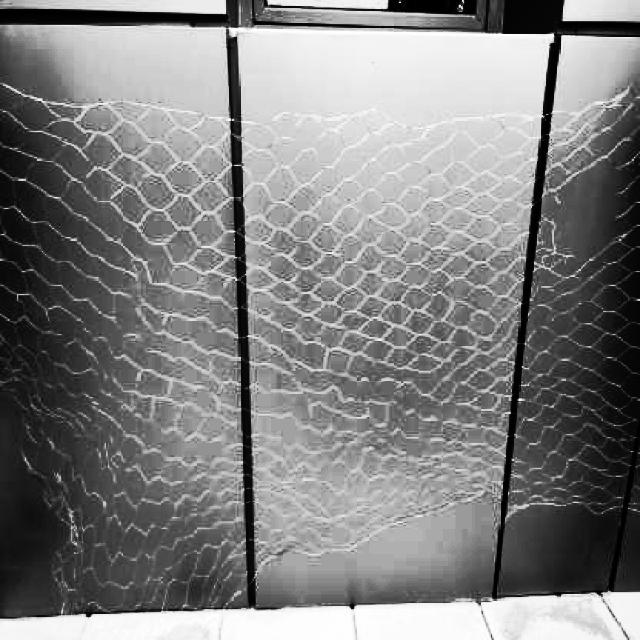anomaly-fence: (233, 461, 640, 621), (7, 59, 630, 132), (0, 360, 135, 618), (531, 152, 640, 305)
